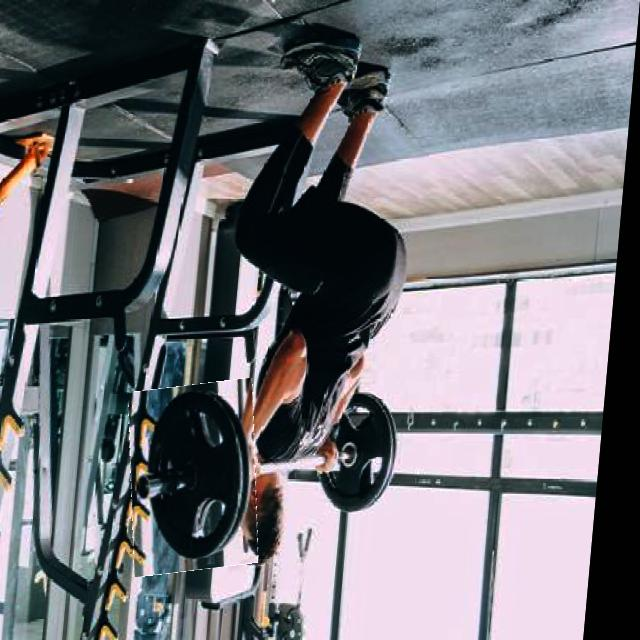barbell: (130, 382, 277, 575)
